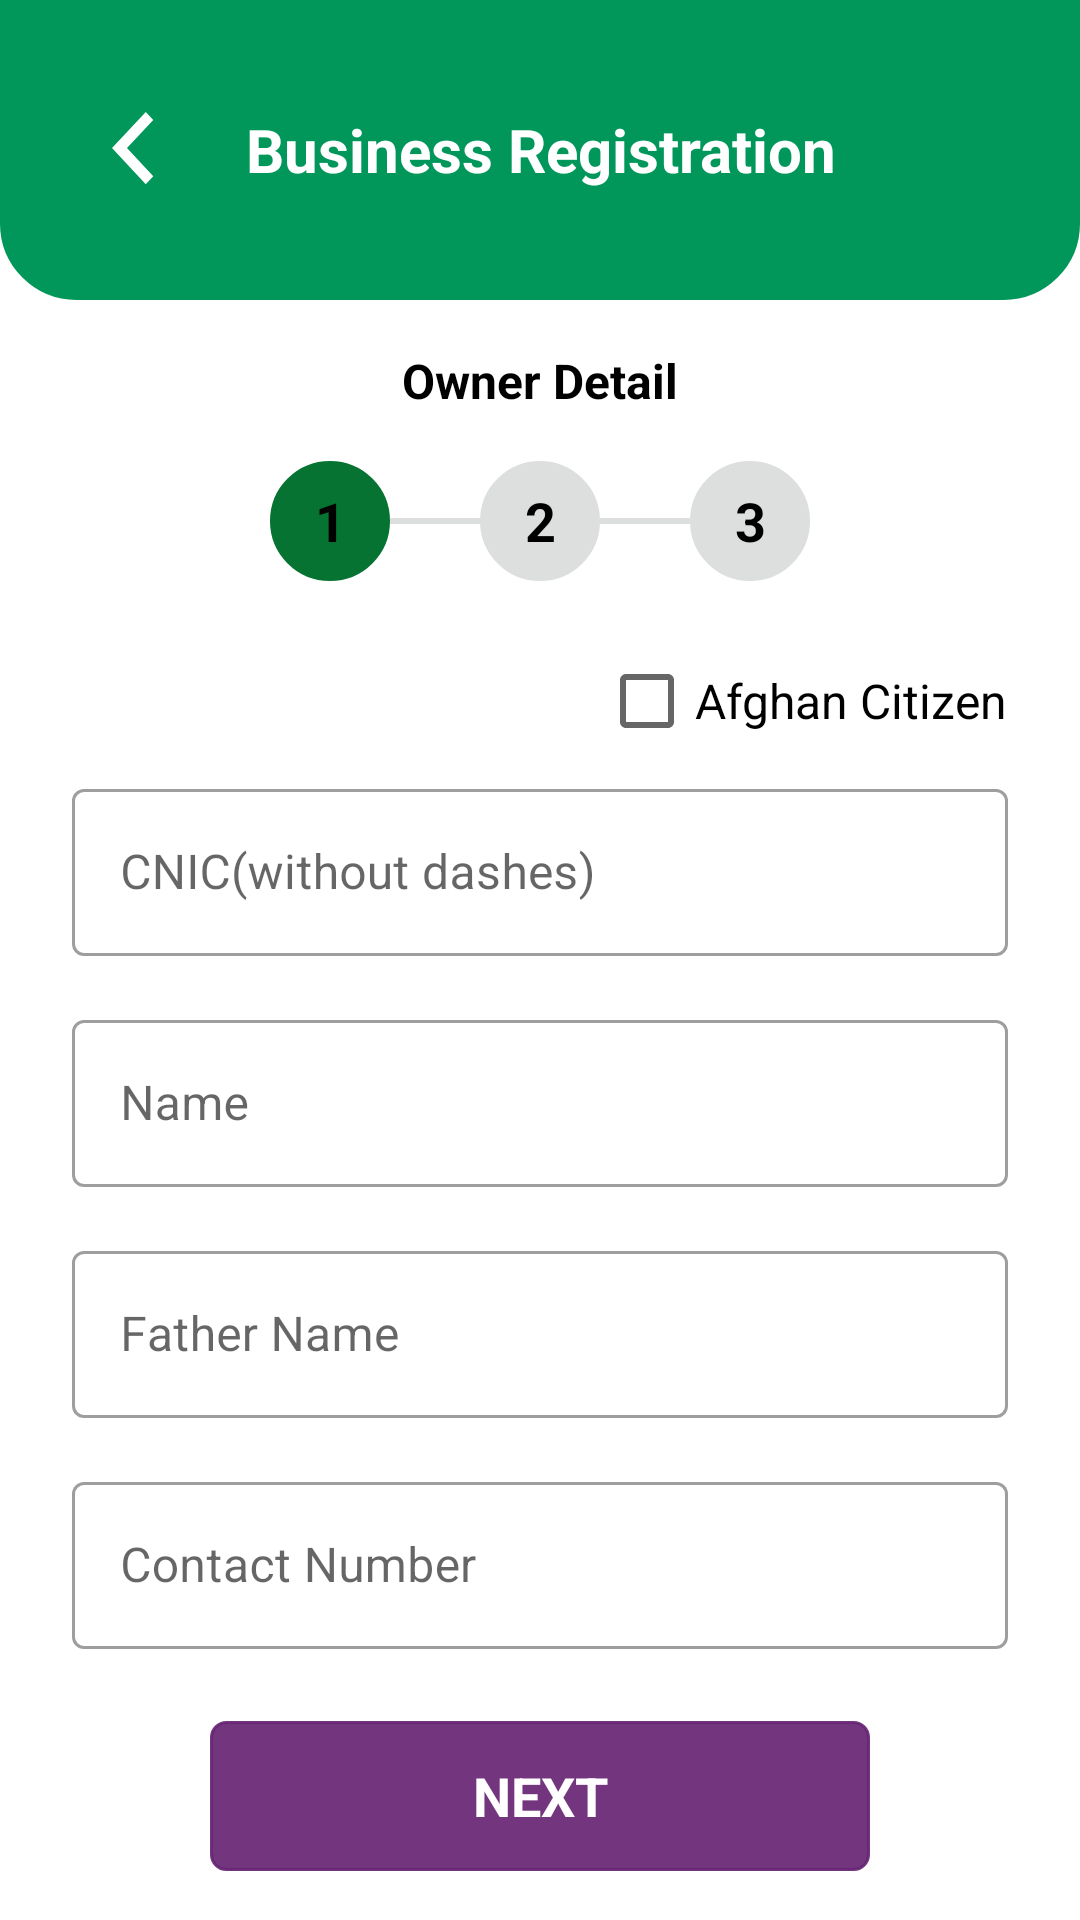

Screen size 1080×1920. Icon name, then its center in pixels as [x,y]:
back: [132,148]
